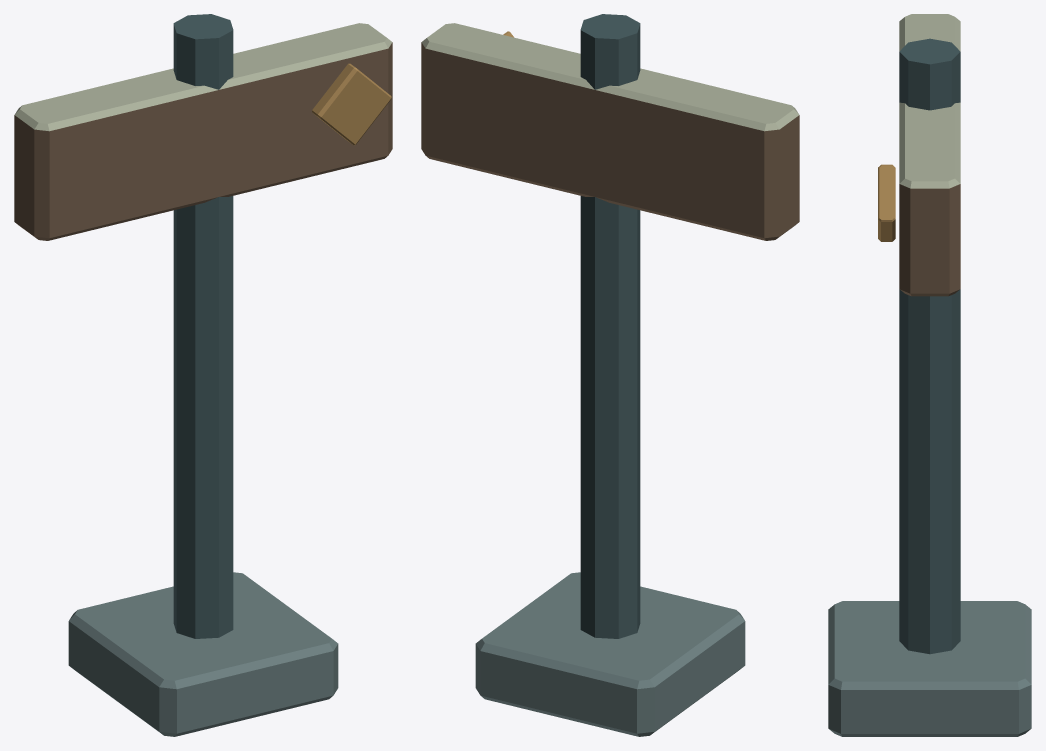
Rendered from waymarker.glb.
The picture shows the model from 3 angles, left to right: view 1: azimuth 30°, elevation 25°; view 2: azimuth 150°, elevation 25°; view 3: azimuth 270°, elevation 25°; orthographic projection.
Parts seen in each view (by area): view 1: waymarker__body; view 2: waymarker__body; view 3: waymarker__body.
Boxes of the visible parts, bbox=[...] form: waymarker__body: bbox=[14, 14, 392, 736]; waymarker__body: bbox=[421, 14, 799, 736]; waymarker__body: bbox=[828, 14, 1031, 736].
Size of the model in its own units: 0.8 by 1.4 by 0.4.
